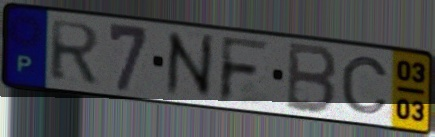7: (107, 20, 150, 95)
B: (283, 39, 340, 117)
C: (339, 54, 391, 116)
F: (216, 34, 273, 106)
N: (164, 28, 216, 100)
R: (47, 18, 103, 86)
